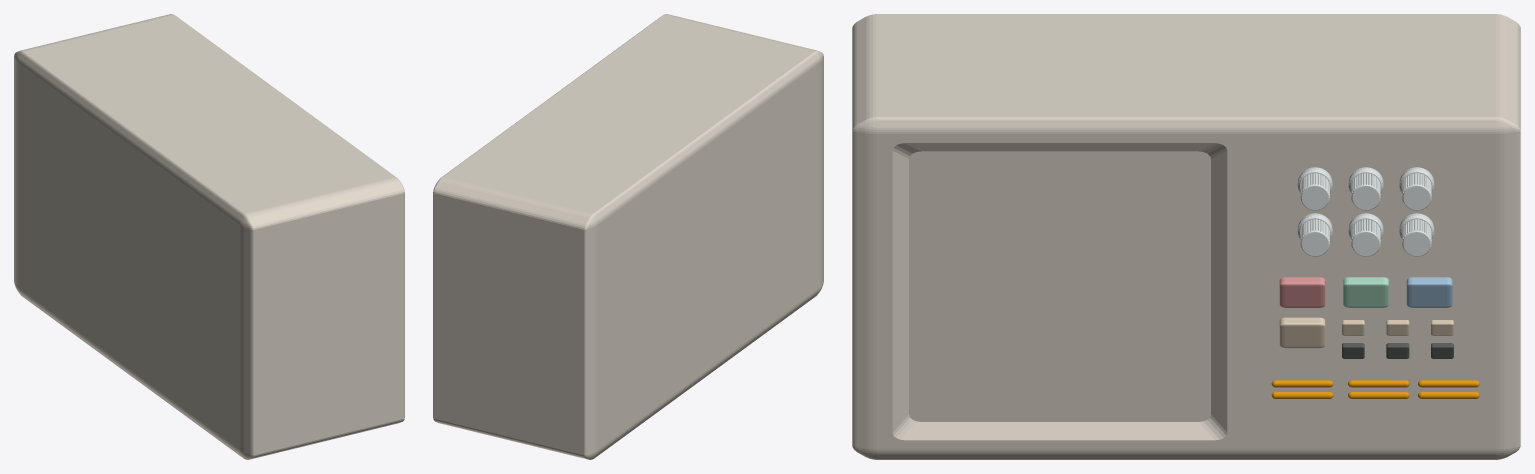
Rendered from 示波器.fbx.
3 views of the same model, side by side, from view 1: azimuth 30°, elevation 25°; view 2: azimuth 150°, elevation 25°; view 3: azimuth 270°, elevation 25° (orthographic). The views are drawn at different scales.
Visible parts, largest first — view 1: 外壳; view 2: 外壳; view 3: 外壳, 立方体.001, 立方体, 立方体.003, 立方体.002, 旋钮.004, 旋钮.005, 旋钮.001, 旋钮.003, 旋钮.002, 旋钮.
Part boxes in pixels (x1,y1,x2,y2): 外壳: (14, 14, 404, 459); 外壳: (433, 14, 823, 459); 外壳: (852, 14, 1520, 459); 立方体.001: (1279, 317, 1325, 348); 立方体: (1279, 277, 1325, 307); 立方体.003: (1406, 277, 1452, 307); 立方体.002: (1343, 277, 1388, 307); 旋钮.004: (1348, 213, 1383, 256); 旋钮.005: (1399, 213, 1434, 256); 旋钮.001: (1348, 167, 1383, 210); 旋钮.003: (1297, 213, 1332, 256); 旋钮.002: (1399, 167, 1434, 210); 旋钮: (1297, 167, 1332, 210).
Bounding box in the file's own units: 467 × 595 × 1051.
